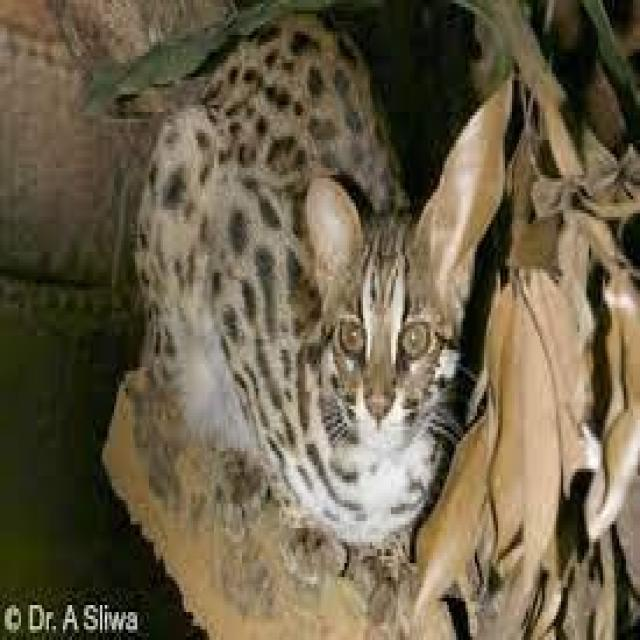leopard: (172, 15, 495, 521)
